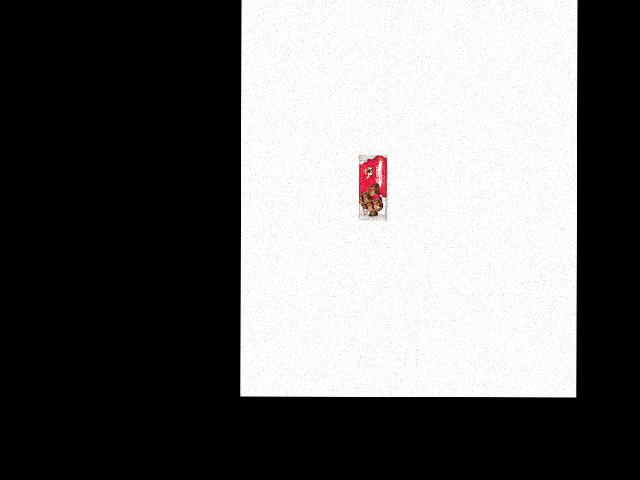chocolate: (362, 143, 403, 221)
